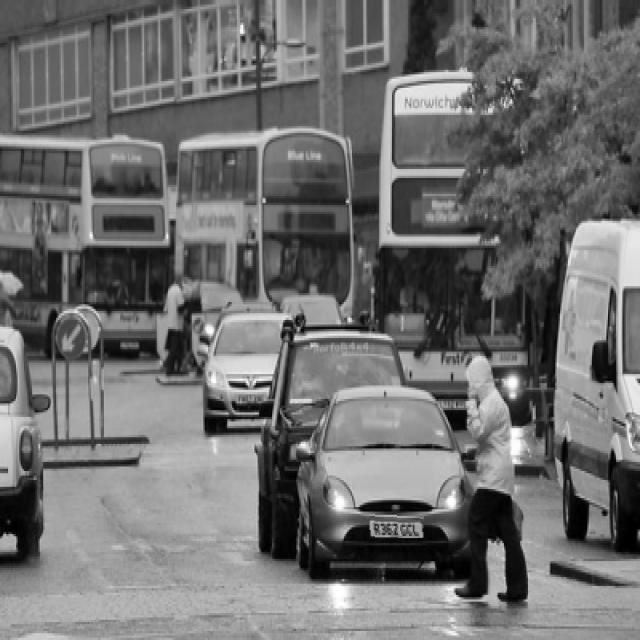licence: (363, 512, 424, 538)
